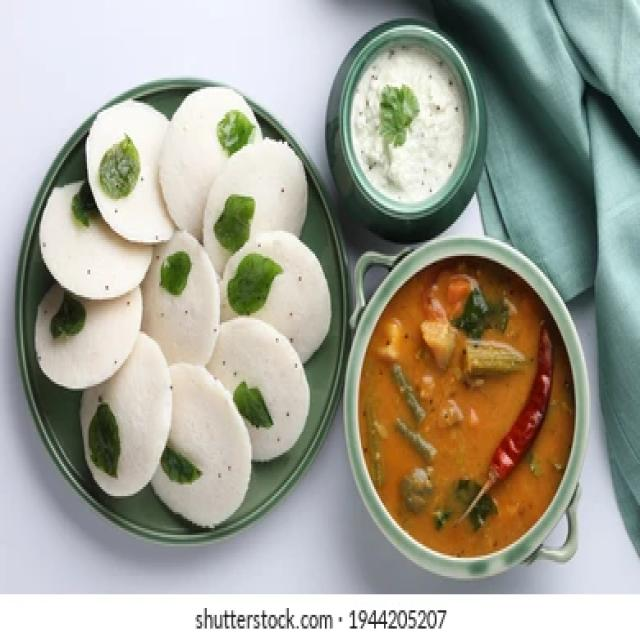IDLI: (151, 366, 249, 526), (161, 87, 261, 238), (207, 318, 309, 459), (84, 331, 171, 494), (222, 233, 330, 361), (203, 137, 307, 267), (39, 181, 151, 297), (87, 101, 174, 240), (34, 286, 141, 389), (141, 231, 218, 363)
